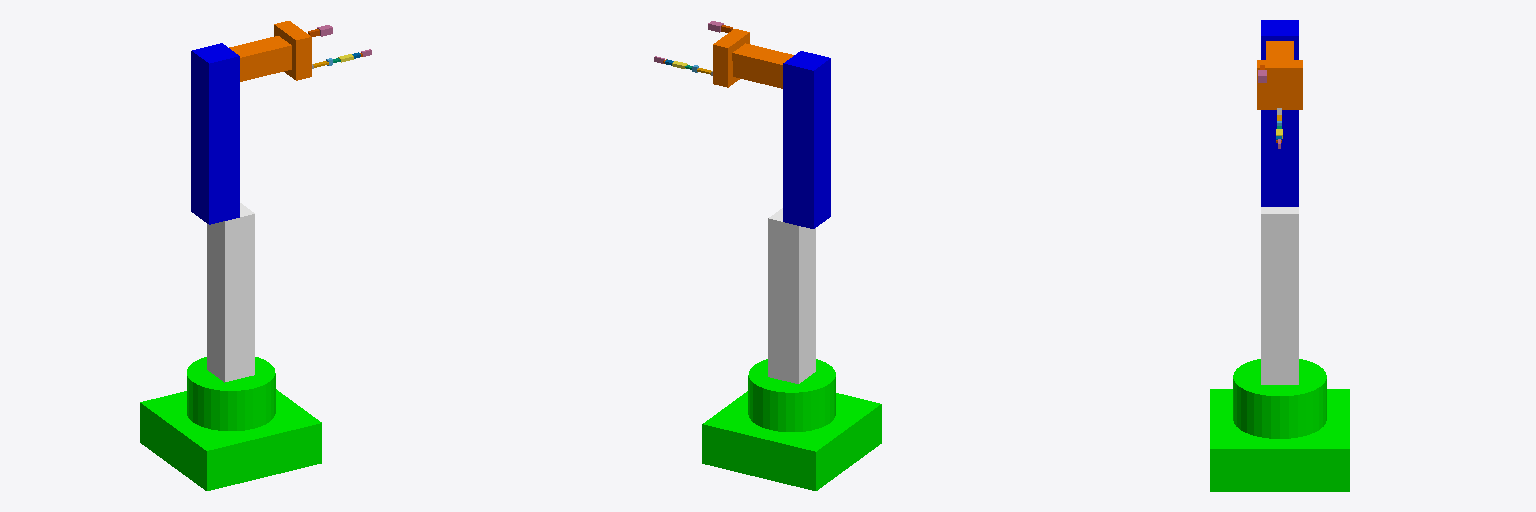
URDF robot description (robot):
<?xml version='1.0' encoding='utf-8'?>
<robot name="robot">
  <link name="base_link">
    <visual>
      <origin xyz="0 0 0.125" rpy="0 0 0" />
      <geometry>
        <box size="0.75 0.75 0.25" />
      </geometry>
      <material name="green" />
    </visual>
    <visual>
      <origin xyz="0 0 0.375" rpy="0 0 0" />
      <geometry>
        <cylinder length="0.25" radius="0.25" />
      </geometry>
      <material name="green">
        <color rgba="0 1 0 1" />
      </material>
    </visual>
    <collision>
      <geometry>
        <box size="0.75 0.75 0.5" />
      </geometry>
    </collision>
    <inertial>
      <mass value="0.5" />
      <inertia ixx="0.034" ixy="0.0" ixz="0.0" iyy="0.034" iyz="0.0" izz="0.034" />
    </inertial>
  </link>
  <link name="support_link">
    <visual>
      <origin xyz="0 0 0.5" rpy="0 0 0" />
      <geometry>
        <box size="0.2 0.2 1" />
      </geometry>
      <material name="white">
        <color rgba="1 1 1 1" />
      </material>
    </visual>
    <collision>
      <geometry>
        <box size="0.2 0.2 1" />
      </geometry>
    </collision>
    <inertial>
      <mass value="0.1" />
      <inertia ixx="0.01" ixy="0.0" ixz="0.0" iyy="0.01" iyz="0.0" izz="0.01" />
    </inertial>
  </link>
  <joint name="support_joint" type="continuous">
    <origin xyz="0 0 0.5" rpy="0 0 0" />
    <parent link="base_link" />
    <child link="support_link" />
    <axis xyz="0 0 1" />
  </joint>
  <link name="arm_link">
    <visual>
      <origin xyz="0 0 0.5" rpy="0 0 0" />
      <geometry>
        <box size="0.2 0.2 1" />
      </geometry>
      <material name="blue">
        <color rgba="0 0 1 1" />
      </material>
    </visual>
    <collision>
      <geometry>
        <box size="0.2 0.2 1" />
      </geometry>
    </collision>
    <inertial>
      <mass value="0.1" />
      <inertia ixx="0.01" ixy="0.0" ixz="0.0" iyy="0.01" iyz="0.0" izz="0.01" />
    </inertial>
  </link>
  <joint name="arm_joint" type="revolute">
    <origin xyz="-0.1 0 1" rpy="0 0 0" />
    <parent link="support_link" />
    <child link="arm_link" />
    <axis xyz="0 1 0" />
    <limit lower="-3.14" upper="3.14" effort="1.0" velocity="1.0" />
  </joint>
  <link name="wrist_link">
    <visual>
      <origin xyz="0 0 0.25" rpy="0 0 0" />
      <geometry>
        <box size="0.15 0.15 0.5" />
      </geometry>
      <material name="orange">
        <color rgba="1 0.5 0 1" />
      </material>
    </visual>
    <collision>
      <geometry>
        <box size="0.15 0.15 0.5" />
      </geometry>
    </collision>
    <inertial>
      <mass value="0.1" />
      <inertia ixx="0.01" ixy="0.0" ixz="0.0" iyy="0.01" iyz="0.0" izz="0.01" />
    </inertial>
  </link>
  <joint name="wrist_joint" type="fixed">
    <origin xyz="0 0 0.9" rpy="0 1.571 0" />
    <parent link="arm_link" />
    <child link="wrist_link" />
  </joint>
  <link name="palm_link">
    <visual>
      <origin xyz="0 0 0.05" rpy="0 0 0" />
      <geometry>
        <box size="0.25 0.25 0.1" />
      </geometry>
      <material name="orange" />
    </visual>
    <collision>
      <geometry>
        <box size="0.25 0.25 0.1" />
      </geometry>
    </collision>
    <inertial>
      <mass value="0.1" />
      <inertia ixx="0.01" ixy="0.0" ixz="0.0" iyy="0.01" iyz="0.0" izz="0.01" />
    </inertial>
  </link>
  <joint name="palm_joint" type="fixed">
    <origin xyz="0 0 0.45" rpy="0 0 0" />
    <parent link="wrist_link" />
    <child link="palm_link" />
  </joint>
  <link name="finger_link_0_0">
    <visual>
      <origin xyz="0 0 0.0335" rpy="0 0 0" />
      <geometry>
        <box size="0.033 0.023 0.067" />
      </geometry>
    </visual>
    <collision>
      <geometry>
        <box size="0.033 0.023 0.067" />
      </geometry>
    </collision>
    <inertial>
      <mass value="0.015" />
      <inertia ixx="0.0" iyy="0.0" izz="0.0" ixy="0" ixz="0" iyz="0" />
    </inertial>
  </link>
  <joint name="finger_joint_palm_link_to_finger_link_0_0" type="revolute">
    <origin xyz="-0.125 -0.093 0.1" rpy="0 0 0" />
    <parent link="palm_link" />
    <child link="finger_link_0_0" />
    <axis xyz="0.0 -1.0 0.0" />
    <limit lower="-3.142" upper="3.142" effort="10" velocity="10" />
  </joint>
  <link name="finger_link_0_1">
    <visual>
      <origin xyz="0 0 0.0385" rpy="0 0 0" />
      <geometry>
        <box size="0.04 0.048 0.077" />
      </geometry>
    </visual>
    <collision>
      <geometry>
        <box size="0.04 0.048 0.077" />
      </geometry>
    </collision>
    <inertial>
      <mass value="0.044" />
      <inertia ixx="0.0" iyy="0.0" izz="0.0" ixy="0" ixz="0" iyz="0" />
    </inertial>
  </link>
  <joint name="finger_joint_finger_link_0_0_to_finger_link_0_1" type="revolute">
    <origin xyz="0.0 0.0 0.067" rpy="0 0 0" />
    <parent link="finger_link_0_0" />
    <child link="finger_link_0_1" />
    <axis xyz="0.0 1.0 0.0" />
    <limit lower="-3.142" upper="3.142" effort="10" velocity="10" />
  </joint>
  <link name="finger_link_1_0">
    <visual>
      <origin xyz="0 0 0.0385" rpy="0 0 0" />
      <geometry>
        <box size="0.023 0.025 0.077" />
      </geometry>
    </visual>
    <collision>
      <geometry>
        <box size="0.023 0.025 0.077" />
      </geometry>
    </collision>
    <inertial>
      <mass value="0.013" />
      <inertia ixx="0.0" iyy="0.0" izz="0.0" ixy="0" ixz="0" iyz="0" />
    </inertial>
  </link>
  <joint name="finger_joint_palm_link_to_finger_link_1_0" type="revolute">
    <origin xyz="0.125 -0.004 0.1" rpy="0 0 0" />
    <parent link="palm_link" />
    <child link="finger_link_1_0" />
    <axis xyz="0.0 1.0 0.0" />
    <limit lower="-3.142" upper="3.142" effort="10" velocity="10" />
  </joint>
  <link name="finger_link_1_1">
    <visual>
      <origin xyz="0 0 0.048" rpy="0 0 0" />
      <geometry>
        <box size="0.012 0.029 0.096" />
      </geometry>
    </visual>
    <collision>
      <geometry>
        <box size="0.012 0.029 0.096" />
      </geometry>
    </collision>
    <inertial>
      <mass value="0.01" />
      <inertia ixx="0.0" iyy="0.0" izz="0.0" ixy="0" ixz="0" iyz="0" />
    </inertial>
  </link>
  <joint name="finger_joint_finger_link_1_0_to_finger_link_1_1" type="revolute">
    <origin xyz="0.0 0.0 0.077" rpy="0 0 0" />
    <parent link="finger_link_1_0" />
    <child link="finger_link_1_1" />
    <axis xyz="1.0 0.0 0.0" />
    <limit lower="-3.142" upper="3.142" effort="10" velocity="10" />
  </joint>
  <link name="finger_link_1_2">
    <visual>
      <origin xyz="0 0 0.015" rpy="0 0 0" />
      <geometry>
        <box size="0.036 0.024 0.03" />
      </geometry>
    </visual>
    <collision>
      <geometry>
        <box size="0.036 0.024 0.03" />
      </geometry>
    </collision>
    <inertial>
      <mass value="0.008" />
      <inertia ixx="0.0" iyy="0.0" izz="0.0" ixy="0" ixz="0" iyz="0" />
    </inertial>
  </link>
  <joint name="finger_joint_finger_link_1_1_to_finger_link_1_2" type="revolute">
    <origin xyz="0.0 0.0 0.096" rpy="0 0 0" />
    <parent link="finger_link_1_1" />
    <child link="finger_link_1_2" />
    <axis xyz="0.0 1.0 0.0" />
    <limit lower="-3.142" upper="3.142" effort="10" velocity="10" />
  </joint>
  <link name="finger_link_1_3">
    <visual>
      <origin xyz="0 0 0.024" rpy="0 0 0" />
      <geometry>
        <box size="0.011 0.028 0.048" />
      </geometry>
    </visual>
    <collision>
      <geometry>
        <box size="0.011 0.028 0.048" />
      </geometry>
    </collision>
    <inertial>
      <mass value="0.004" />
      <inertia ixx="0.0" iyy="0.0" izz="0.0" ixy="0" ixz="0" iyz="0" />
    </inertial>
  </link>
  <joint name="finger_joint_finger_link_1_2_to_finger_link_1_3" type="revolute">
    <origin xyz="0.0 0.0 0.03" rpy="0 0 0" />
    <parent link="finger_link_1_2" />
    <child link="finger_link_1_3" />
    <axis xyz="0.0 1.0 0.0" />
    <limit lower="-3.142" upper="3.142" effort="10" velocity="10" />
  </joint>
  <link name="finger_link_1_4">
    <visual>
      <origin xyz="0 0 0.042" rpy="0 0 0" />
      <geometry>
        <box size="0.02 0.038 0.084" />
      </geometry>
    </visual>
    <collision>
      <geometry>
        <box size="0.02 0.038 0.084" />
      </geometry>
    </collision>
    <inertial>
      <mass value="0.019" />
      <inertia ixx="0.0" iyy="0.0" izz="0.0" ixy="0" ixz="0" iyz="0" />
    </inertial>
  </link>
  <joint name="finger_joint_finger_link_1_3_to_finger_link_1_4" type="revolute">
    <origin xyz="0.0 0.0 0.048" rpy="0 0 0" />
    <parent link="finger_link_1_3" />
    <child link="finger_link_1_4" />
    <axis xyz="1.0 0.0 0.0" />
    <limit lower="-3.142" upper="3.142" effort="10" velocity="10" />
  </joint>
  <link name="finger_link_1_5">
    <visual>
      <origin xyz="0 0 0.024" rpy="0 0 0" />
      <geometry>
        <box size="0.017 0.032 0.048" />
      </geometry>
    </visual>
    <collision>
      <geometry>
        <box size="0.017 0.032 0.048" />
      </geometry>
    </collision>
    <inertial>
      <mass value="0.008" />
      <inertia ixx="0.0" iyy="0.0" izz="0.0" ixy="0" ixz="0" iyz="0" />
    </inertial>
  </link>
  <joint name="finger_joint_finger_link_1_4_to_finger_link_1_5" type="revolute">
    <origin xyz="0.0 0.0 0.084" rpy="0 0 0" />
    <parent link="finger_link_1_4" />
    <child link="finger_link_1_5" />
    <axis xyz="1.0 0.0 0.0" />
    <limit lower="-3.142" upper="3.142" effort="10" velocity="10" />
  </joint>
  <link name="finger_link_1_6">
    <visual>
      <origin xyz="0 0 0.0055" rpy="0 0 0" />
      <geometry>
        <box size="0.013 0.031 0.011" />
      </geometry>
    </visual>
    <collision>
      <geometry>
        <box size="0.013 0.031 0.011" />
      </geometry>
    </collision>
    <inertial>
      <mass value="0.001" />
      <inertia ixx="0.0" iyy="0.0" izz="0.0" ixy="0" ixz="0" iyz="0" />
    </inertial>
  </link>
  <joint name="finger_joint_finger_link_1_5_to_finger_link_1_6" type="revolute">
    <origin xyz="0.0 0.0 0.048" rpy="0 0 0" />
    <parent link="finger_link_1_5" />
    <child link="finger_link_1_6" />
    <axis xyz="0.0 1.0 0.0" />
    <limit lower="-3.142" upper="3.142" effort="10" velocity="10" />
  </joint>
  <link name="finger_link_1_7">
    <visual>
      <origin xyz="0 0 0.032" rpy="0 0 0" />
      <geometry>
        <box size="0.031 0.014 0.064" />
      </geometry>
    </visual>
    <collision>
      <geometry>
        <box size="0.031 0.014 0.064" />
      </geometry>
    </collision>
    <inertial>
      <mass value="0.008" />
      <inertia ixx="0.0" iyy="0.0" izz="0.0" ixy="0" ixz="0" iyz="0" />
    </inertial>
  </link>
  <joint name="finger_joint_finger_link_1_6_to_finger_link_1_7" type="revolute">
    <origin xyz="0.0 0.0 0.011" rpy="0 0 0" />
    <parent link="finger_link_1_6" />
    <child link="finger_link_1_7" />
    <axis xyz="1.0 0.0 0.0" />
    <limit lower="-3.142" upper="3.142" effort="10" velocity="10" />
  </joint>
</robot>

--- Render facts (derived) ---
3 views of the same robot in one strip: view 1: azimuth 30°, elevation 25°; view 2: azimuth 150°, elevation 25°; view 3: azimuth 270°, elevation 25° (orthographic).
Model robot with 15 links and 14 joints (11 revolute, 1 continuous, 2 fixed), rooted at base_link, posed every joint at zero.
Links seen in each view (by area): view 1: base_link, arm_link, support_link, wrist_link, palm_link; view 2: base_link, arm_link, support_link, wrist_link, palm_link; view 3: base_link, support_link, arm_link, palm_link, wrist_link.
Boxes of the visible links, <box> form: base_link: <box>140,357,321,490</box>; arm_link: <box>191,43,239,224</box>; support_link: <box>207,203,254,382</box>; wrist_link: <box>229,36,291,81</box>; palm_link: <box>274,21,311,80</box>; base_link: <box>702,359,881,490</box>; arm_link: <box>783,51,830,228</box>; support_link: <box>768,208,815,383</box>; wrist_link: <box>732,43,793,88</box>; palm_link: <box>713,29,749,87</box>; base_link: <box>1210,359,1349,491</box>; support_link: <box>1261,207,1298,384</box>; arm_link: <box>1261,20,1298,206</box>; palm_link: <box>1257,60,1302,109</box>; wrist_link: <box>1266,41,1293,59</box>.
Size in the robot's own frame: 1.28 by 0.75 by 2.54 metres.
Geometry: primitives only (box / cylinder / sphere), no mesh files.